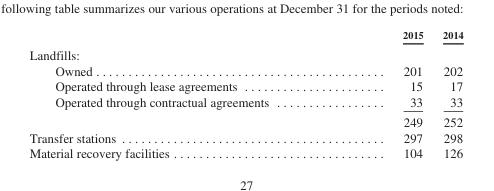table: (28, 28, 462, 160)
table column: (28, 28, 335, 160), (335, 28, 432, 160), (432, 28, 462, 160)
table column header: (28, 28, 462, 44)
table projected row header: (28, 44, 462, 62)
table row: (28, 44, 462, 62), (28, 93, 462, 111), (28, 111, 462, 129), (28, 28, 462, 44), (28, 77, 462, 93), (28, 129, 462, 145), (28, 62, 462, 77), (28, 145, 462, 160)
